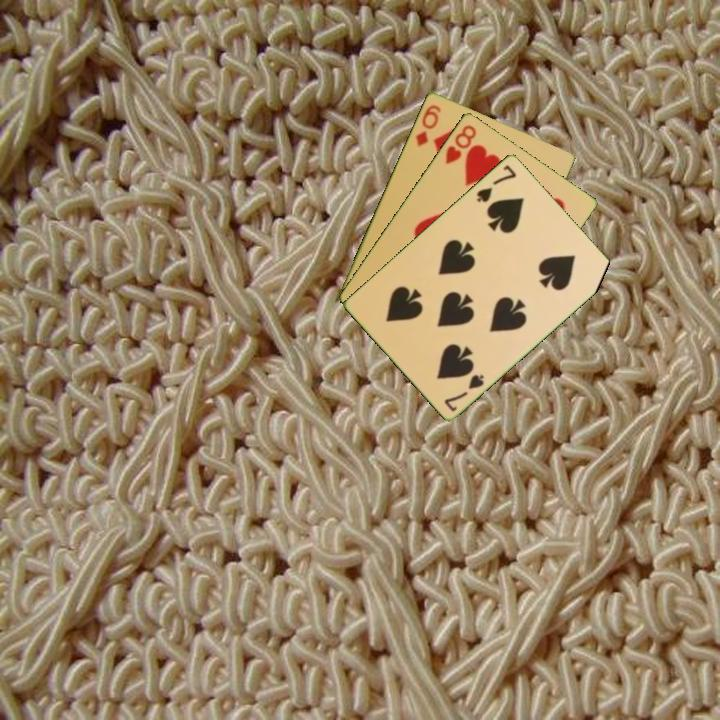6d: (412, 101, 444, 149)
7s: (473, 161, 519, 205), (441, 370, 487, 414)
8h: (442, 121, 479, 167)
